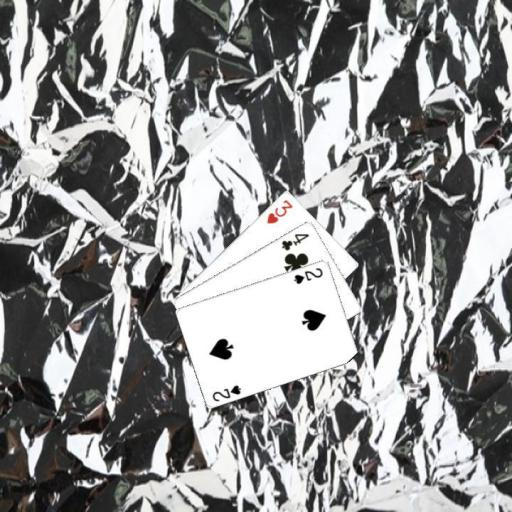2S: (209, 382, 243, 402), (291, 265, 324, 285)
3H: (264, 196, 294, 225)
4C: (279, 230, 311, 252)
